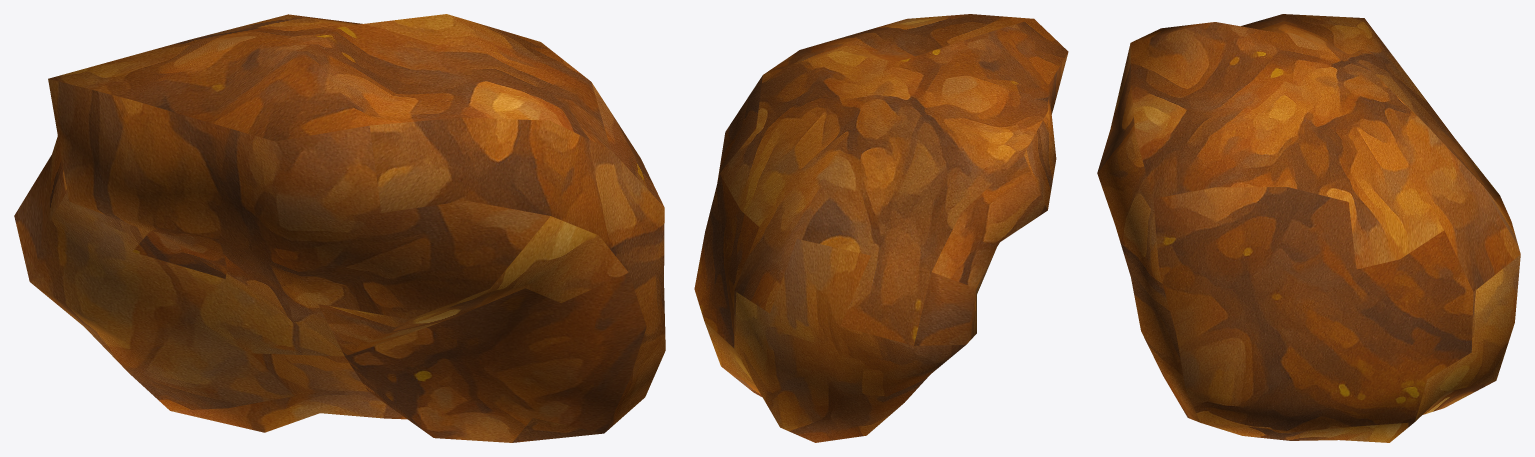
The model's file is RockSingelB.fbx.
3 renders of one model, left to right at view 1: azimuth 30°, elevation 25°; view 2: azimuth 150°, elevation 25°; view 3: azimuth 270°, elevation 25°, orthographic. The views are drawn at different scales.
Parts seen in each view (by area): view 1: SingleStoneB; view 2: SingleStoneB; view 3: SingleStoneB.
Boxes of the visible parts, x1,y1,x2,y2 form: SingleStoneB: [14, 14, 665, 442]; SingleStoneB: [694, 14, 1068, 442]; SingleStoneB: [1097, 14, 1520, 442].
Bounding box in the file's own units: 7.47 × 7 × 7.61.
